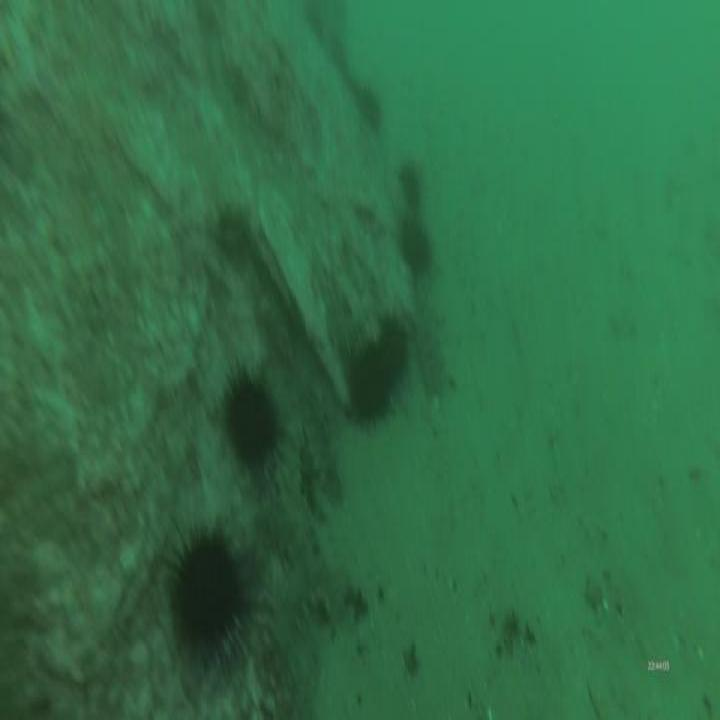echinus: (163, 512, 250, 668), (216, 359, 292, 493), (338, 329, 397, 428), (374, 306, 411, 388), (397, 204, 435, 276), (351, 73, 385, 139), (396, 155, 429, 217)
holothurian: (292, 375, 347, 516), (270, 416, 311, 574)
